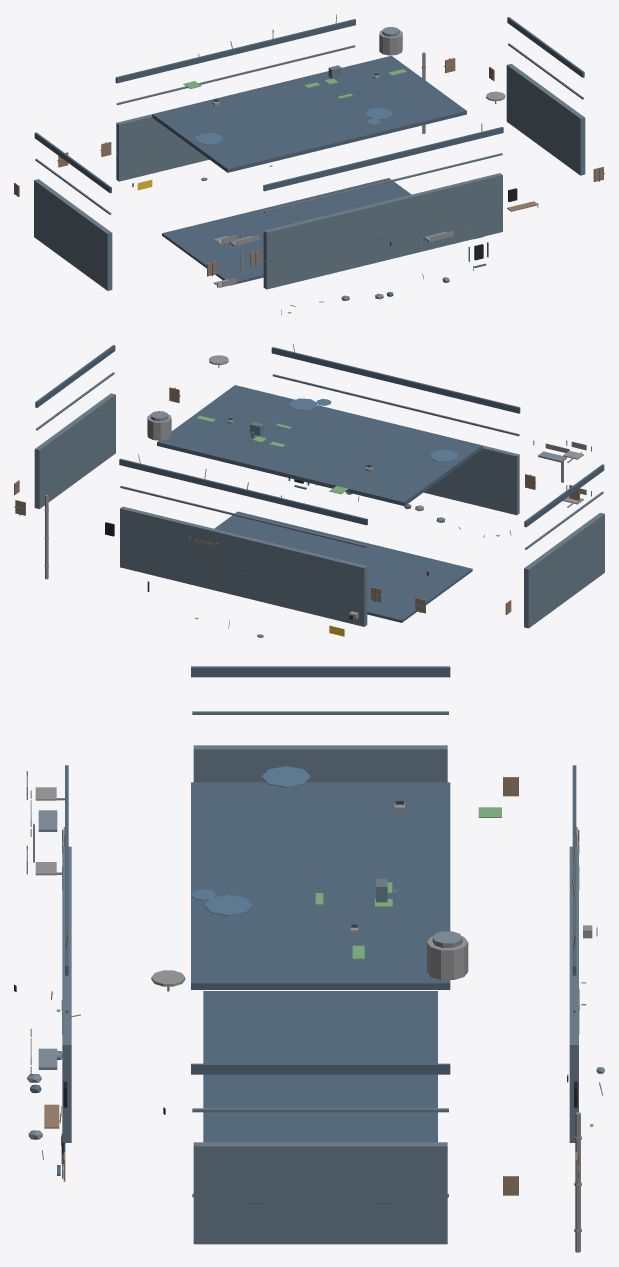
The model's file is building_mid_right.glb.
The picture shows the model from 3 angles, top to bottom: view 1: azimuth 30°, elevation 25°; view 2: azimuth 150°, elevation 25°; view 3: azimuth 270°, elevation 25°; orthographic projection. The views are drawn at different scales.
Visible parts, largest first — view 1: BuildingMesh; view 2: BuildingMesh; view 3: BuildingMesh.
Part boxes in pixels (x1,y1,x2,y2): BuildingMesh: (14,14,604,315); BuildingMesh: (14,344,604,637); BuildingMesh: (14,666,604,1252).
Bounding box in the file's own units: 10.11 × 3.02 × 6.29.
